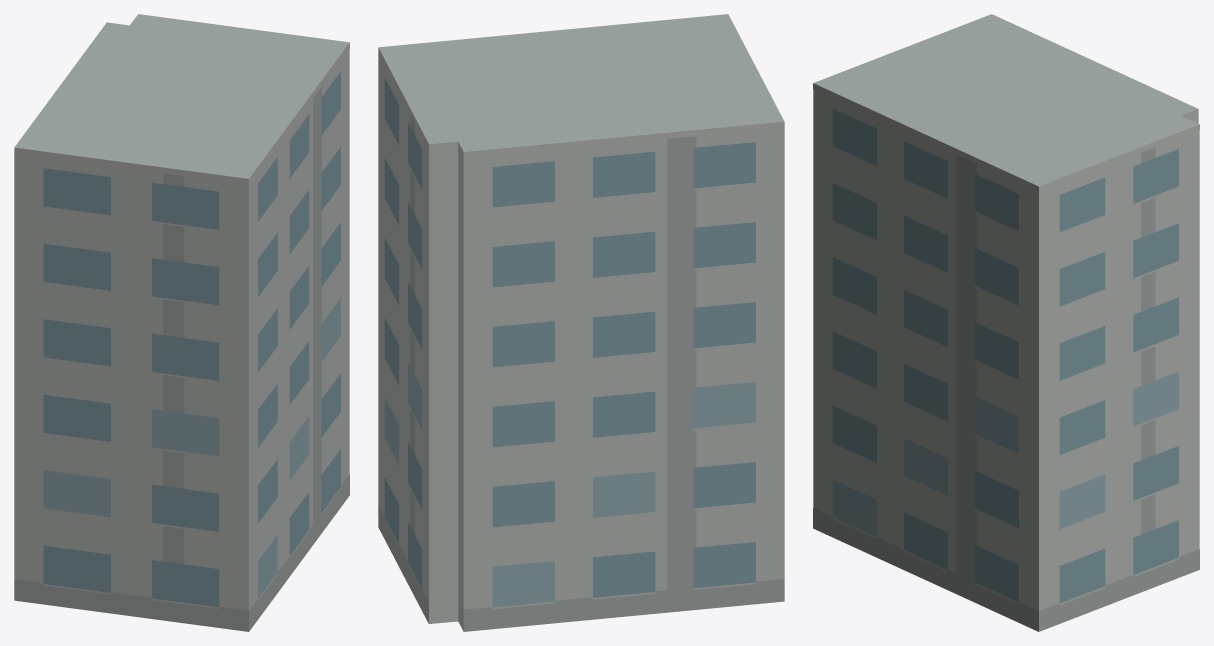
File: survey-upis-32509004.glb
3 renders of one model, left to right at view 1: azimuth 30°, elevation 25°; view 2: azimuth 150°, elevation 25°; view 3: azimuth 270°, elevation 25°, orthographic. The views are drawn at different scales.
Visible parts, largest first — view 1: survey-upis-32509004.tmp; view 2: survey-upis-32509004.tmp; view 3: survey-upis-32509004.tmp.
Part boxes in pixels (<box>): survey-upis-32509004.tmp: <box>14,14,349,631</box>; survey-upis-32509004.tmp: <box>378,14,784,631</box>; survey-upis-32509004.tmp: <box>813,14,1199,631</box>.
Size of the model in its own units: 15.54 by 18.7 by 14.72.
